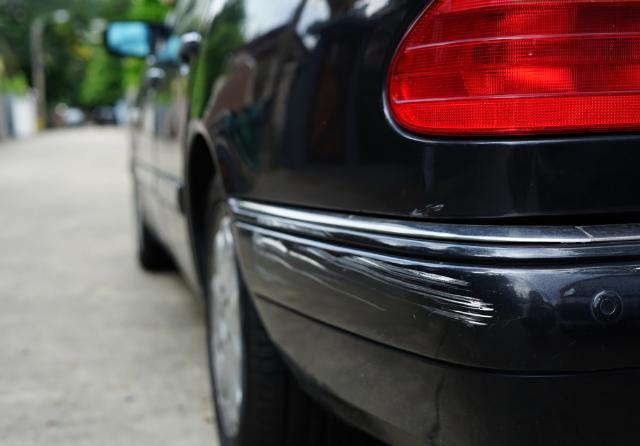crack: (572, 266, 640, 275)
scratch: (254, 227, 501, 329)
